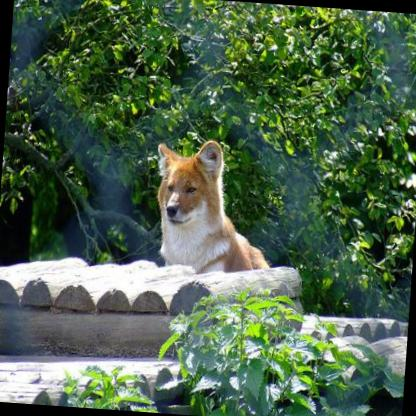dhole: (148, 136, 278, 275)
